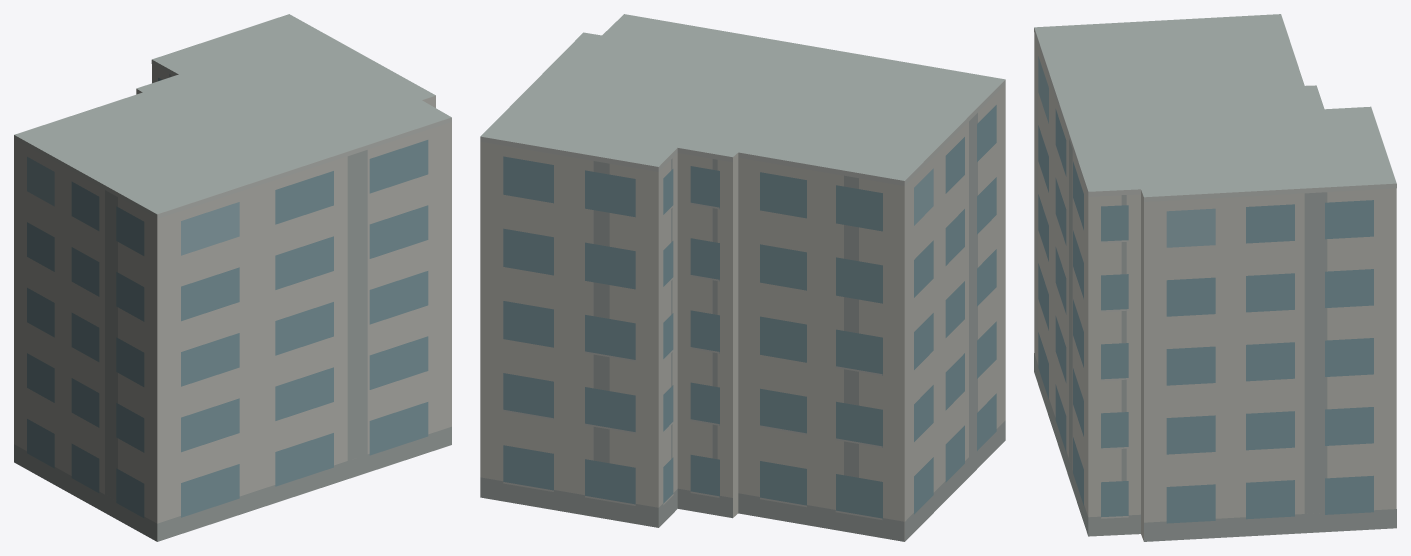
File: survey-upis-32576960.glb
3 renders of one model, left to right at view 1: azimuth 30°, elevation 25°; view 2: azimuth 150°, elevation 25°; view 3: azimuth 270°, elevation 25°, orthographic. The views are drawn at different scales.
Visible parts, largest first — view 1: survey-upis-32576960.tmp; view 2: survey-upis-32576960.tmp; view 3: survey-upis-32576960.tmp.
Part boxes in pixels (x1,y1,x2,y2): survey-upis-32576960.tmp: (14,14,451,541); survey-upis-32576960.tmp: (480,14,1005,541); survey-upis-32576960.tmp: (1034,14,1396,541).
Bounding box in the file's own units: 19.74 × 17.3 × 16.51.
